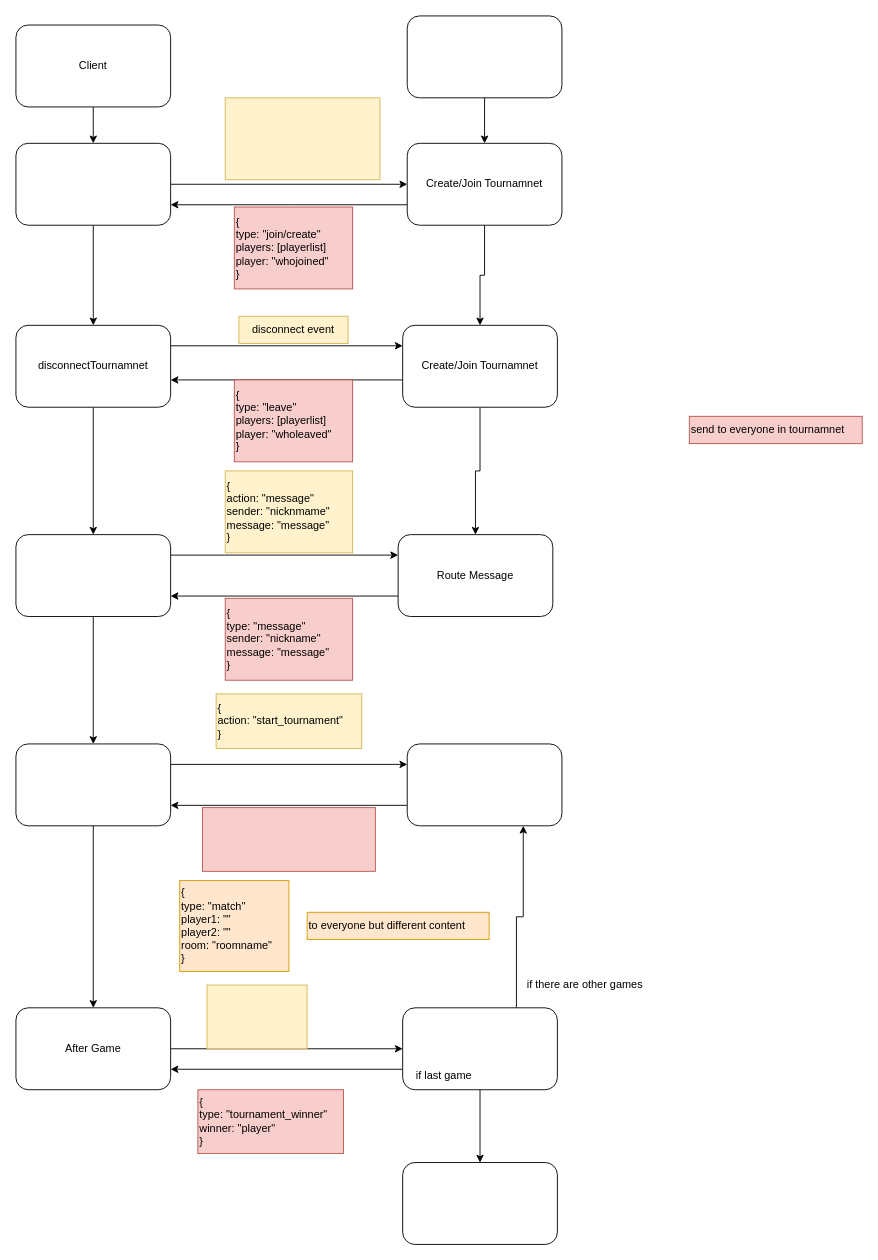
Image size: 878x1260. Some labels were removed from this diagram. Here are the shapes that lost their labels. From the top down, the centre of each, then its label:
the point at 484,56: Server
the point at 302,138: { action: "create_or_join" tournament_name: "name" nickname: "nickname" }
the point at 93,183: connectTournamnet
the point at 93,575: ChatMessage
the point at 93,784: Start Button
the point at 484,784: Launch games
the point at 288,839: { type: "start" message: "Tournament started" }
the point at 256,1016: { action: "winner" winner: "player" }
the point at 479,1203: close websocket connections of all users
